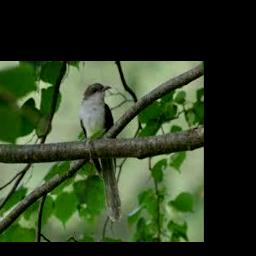Cuckoo: (79, 83, 121, 222)
